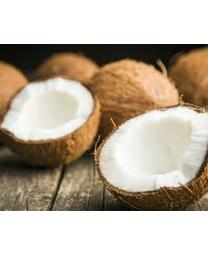coconut: (93, 102, 206, 207), (2, 75, 100, 167)
